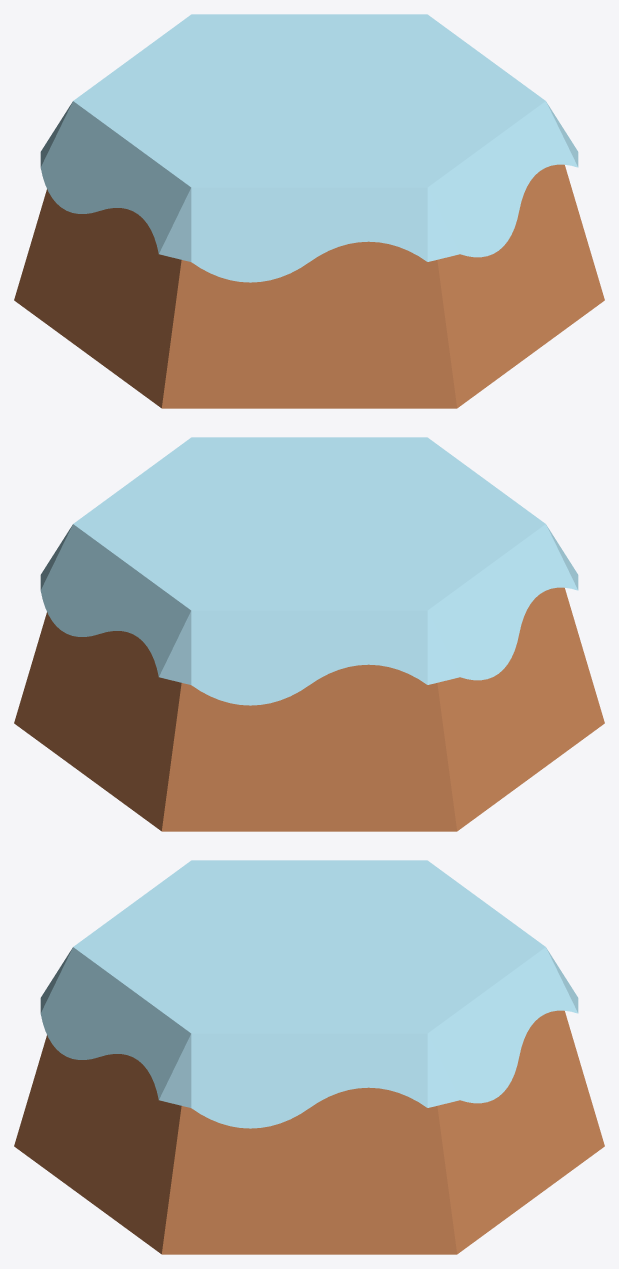
The model's file is blockSnowHexagonLow.dae.
The picture shows the model from 3 angles, top to bottom: view 1: azimuth 30°, elevation 25°; view 2: azimuth 150°, elevation 25°; view 3: azimuth 270°, elevation 25°; orthographic projection.
Parts seen in each view (by area): view 1: blockSnowHexagonLow; view 2: blockSnowHexagonLow; view 3: blockSnowHexagonLow.
Boxes of the visible parts, box(x1,y1,x2,y2) form: blockSnowHexagonLow: box(14, 14, 604, 408); blockSnowHexagonLow: box(14, 437, 604, 831); blockSnowHexagonLow: box(14, 860, 604, 1254).
Size of the model in its own units: 1 by 0.4298 by 1.15.
